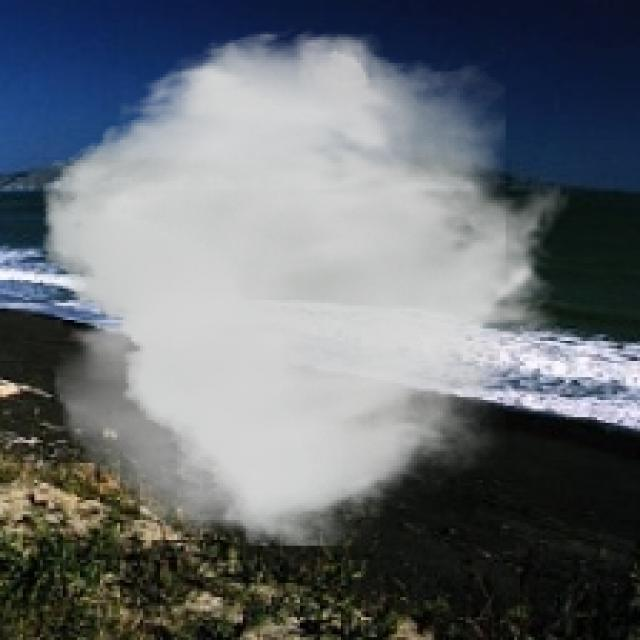smoke: (43, 26, 571, 546)
